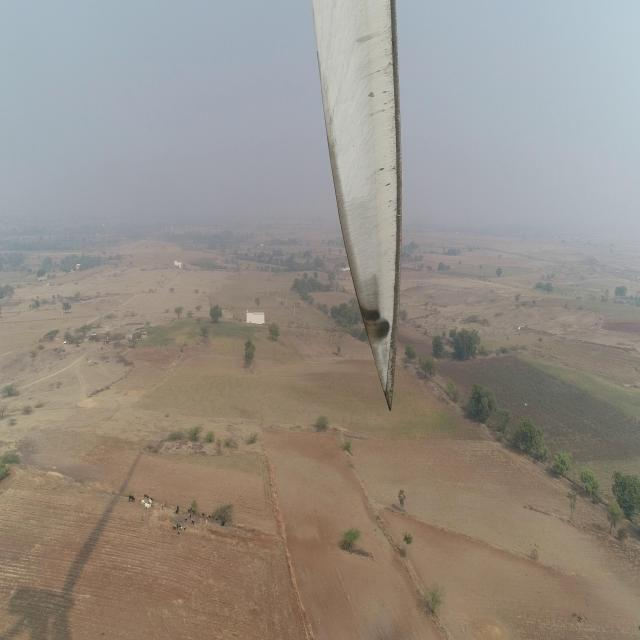Dirt: (312, 0, 404, 410)
Oil LEAKAGE: (356, 297, 390, 342)
Pin Hole: (377, 164, 397, 193), (366, 90, 378, 102)
